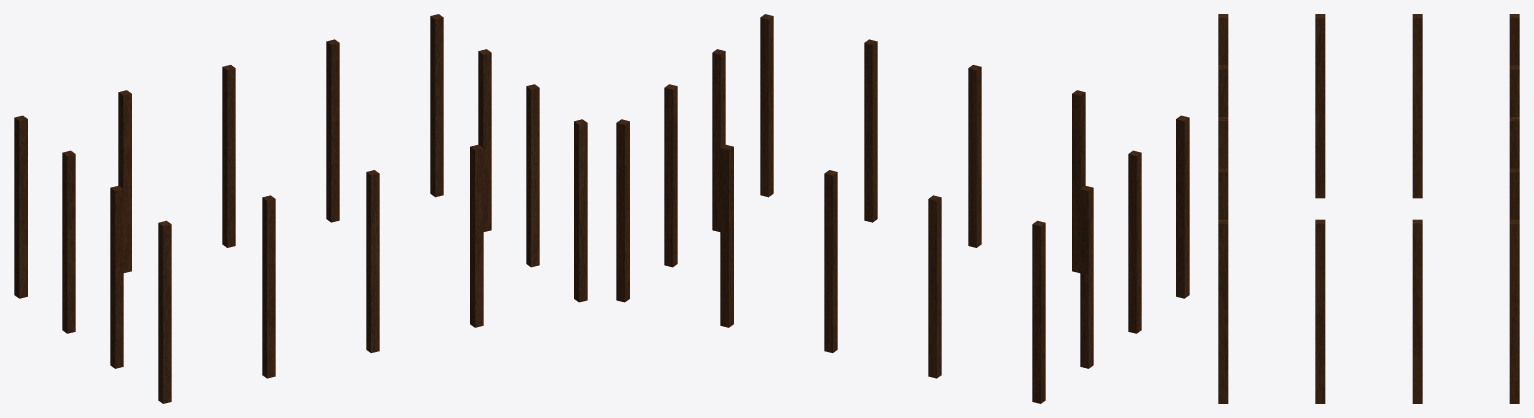
The model's file is MSH_C_Colomns.glb.
The picture shows the model from 3 angles, left to right: view 1: azimuth 30°, elevation 25°; view 2: azimuth 150°, elevation 25°; view 3: azimuth 270°, elevation 25°; orthographic projection.
Parts seen in each view (by area): view 1: MSH_C_Colomns; view 2: MSH_C_Colomns; view 3: MSH_C_Colomns.
Part boxes in pixels (left/top/right/bottom): MSH_C_Colomns: left=14, top=14, right=587, bottom=403; MSH_C_Colomns: left=616, top=14, right=1189, bottom=403; MSH_C_Colomns: left=1218, top=14, right=1519, bottom=403.
Size of the model in its own units: 15 by 6 by 9.1.
Materials: 1 (1 with a texture image).
